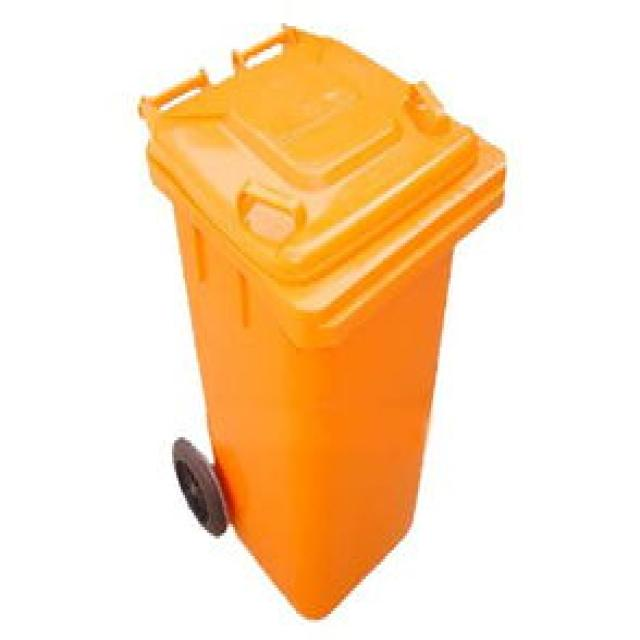garbage_bin: (135, 17, 503, 617)
